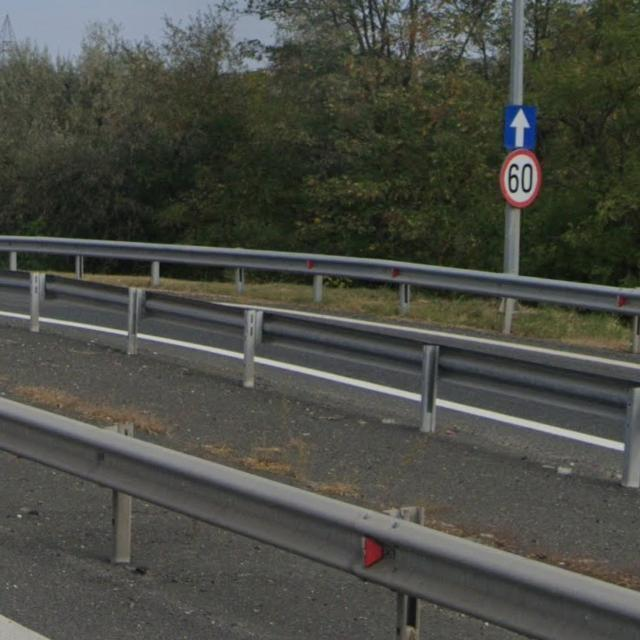forb_speed_over_60: (500, 149, 543, 207)
